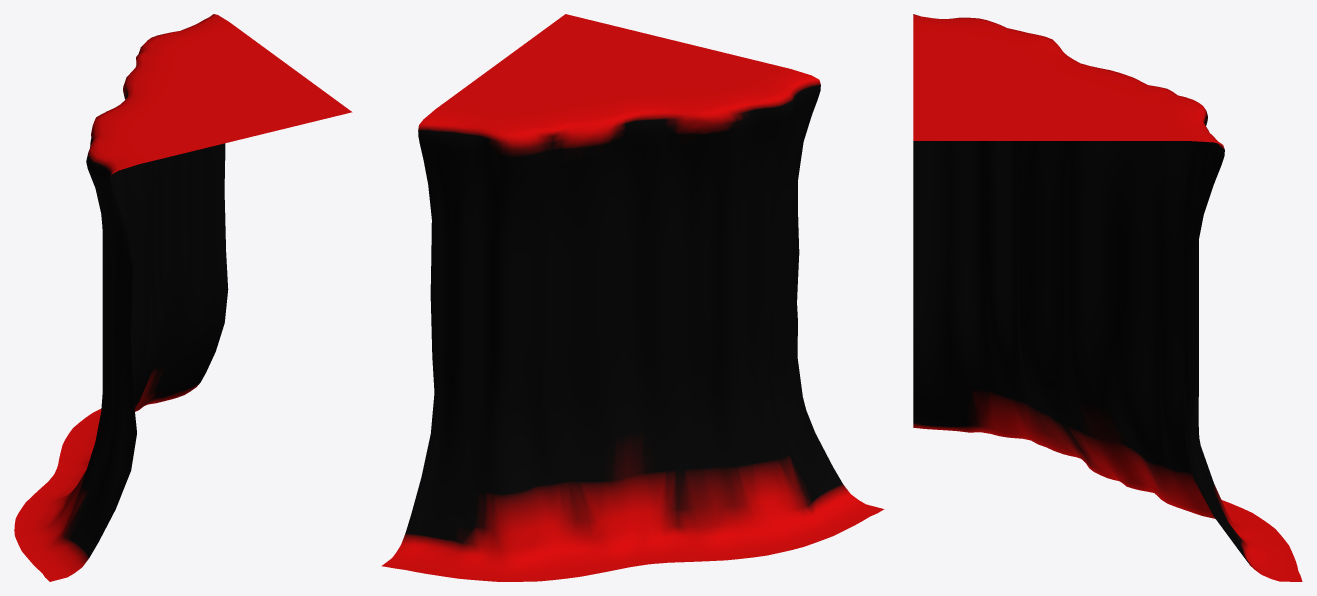
The model's file is GroundCliff03A 3M Foreground.fbx.
3 views of the same model, side by side, from view 1: azimuth 30°, elevation 25°; view 2: azimuth 150°, elevation 25°; view 3: azimuth 270°, elevation 25° (orthographic). The views are drawn at different scales.
Parts seen in each view (by area): view 1: GroundCliff03A 3M Foreground; view 2: GroundCliff03A 3M Foreground; view 3: GroundCliff03A 3M Foreground.
Part boxes in pixels (<box>): GroundCliff03A 3M Foreground: <box>14,14,352,581</box>; GroundCliff03A 3M Foreground: <box>381,14,884,581</box>; GroundCliff03A 3M Foreground: <box>913,14,1302,581</box>.
Size of the model in its own units: 2.4 by 3 by 2.4.
